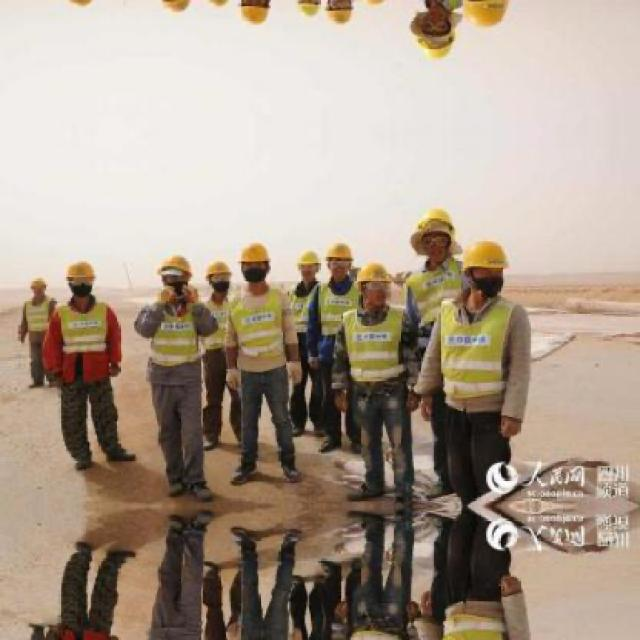Reflective-Jacket: (434, 296, 518, 416), (342, 308, 409, 390), (54, 299, 114, 386), (231, 288, 289, 374), (146, 297, 200, 369)
Safety-Helmet: (460, 234, 512, 274), (408, 201, 458, 237), (152, 251, 194, 275), (62, 255, 98, 283), (237, 237, 271, 265), (356, 260, 392, 285), (323, 238, 354, 262), (296, 246, 322, 268), (205, 257, 232, 277), (28, 274, 49, 289)
